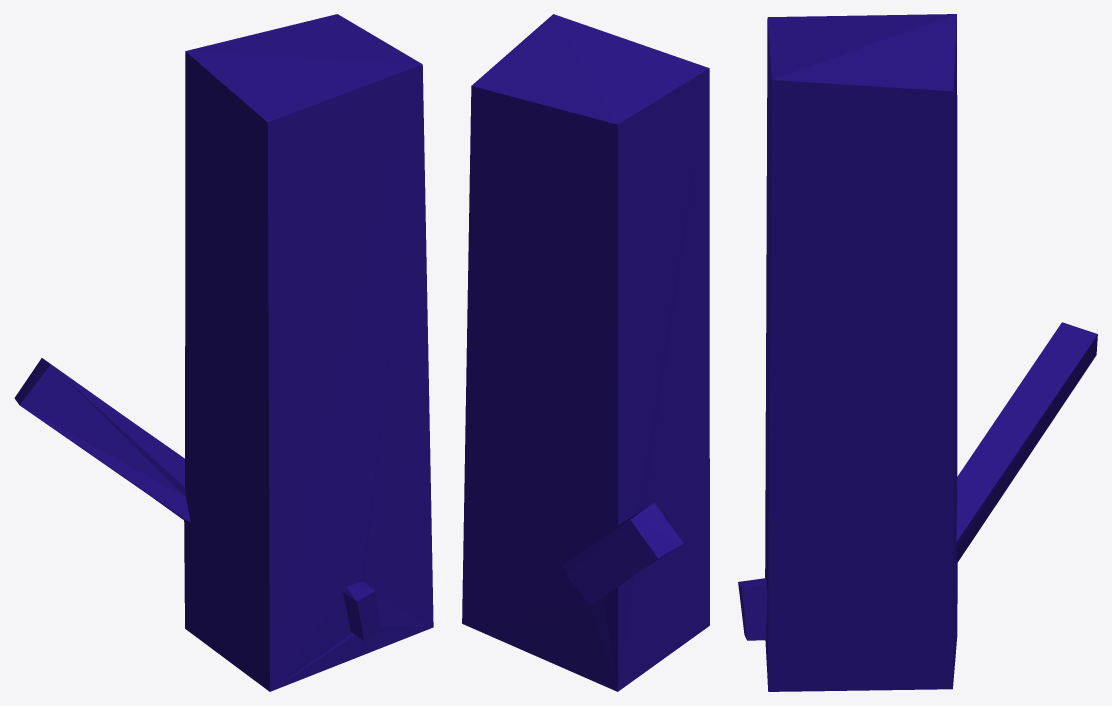
3 views of the same model, side by side, from view 1: azimuth 30°, elevation 25°; view 2: azimuth 150°, elevation 25°; view 3: azimuth 270°, elevation 25° (orthographic). The views are drawn at different scales.
Visible parts, largest first — view 1: 253_Cube.1037; view 2: 253_Cube.1037; view 3: 253_Cube.1037.
Part boxes in pixels (x1=…): 253_Cube.1037: x1=14, y1=14, x2=433, y2=691; 253_Cube.1037: x1=462, y1=14, x2=709, y2=691; 253_Cube.1037: x1=738, y1=14, x2=1097, y2=691.
Bounding box in the file's own units: 6.14 × 12.51 × 6.42.
